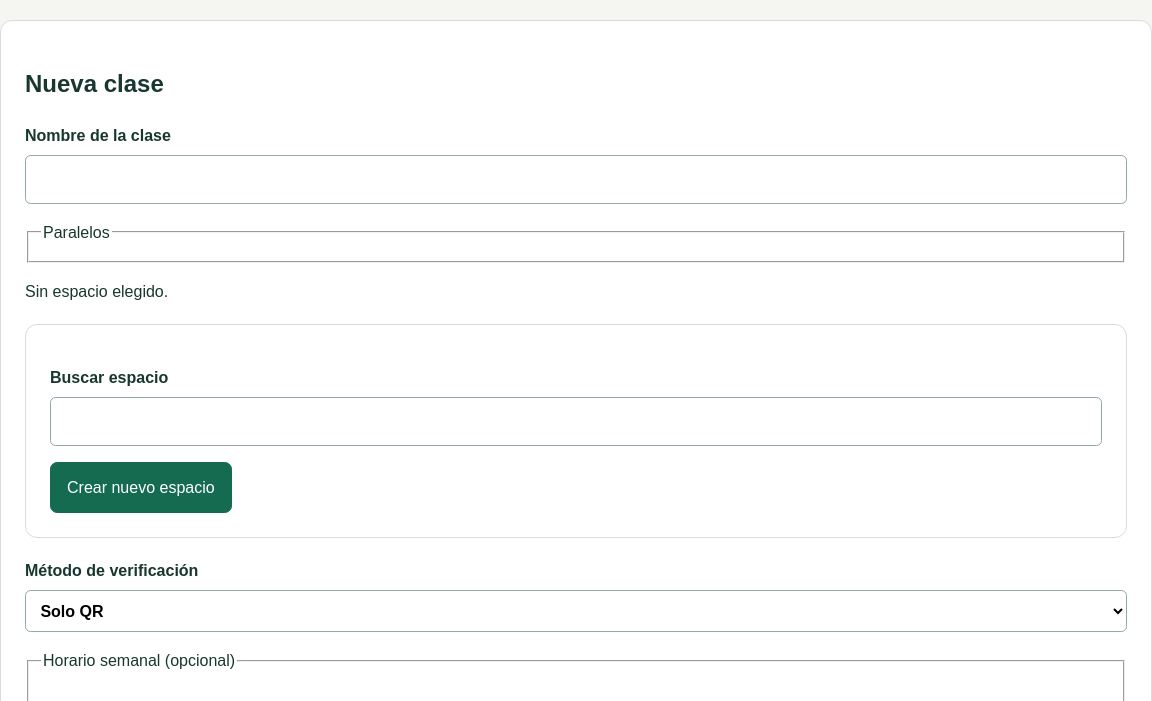
formulario de clase › exige espacio y paralelo antes de enviar
Type "Redes" into the field labelled "Nombre de la clase" at x=576, y=179, box x1=25 y1=155 x2=1127 y2=204
(page scrolled)
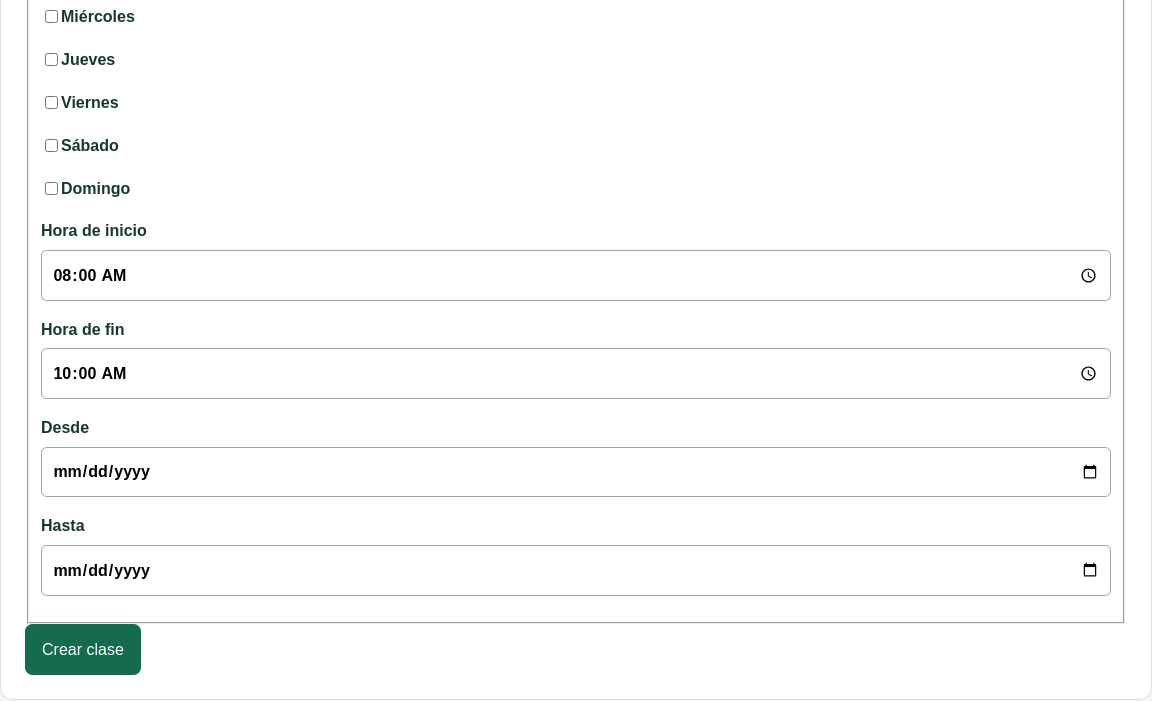
Click the button "Crear clase" at x=83, y=649, box x1=25 y1=624 x2=141 y2=675
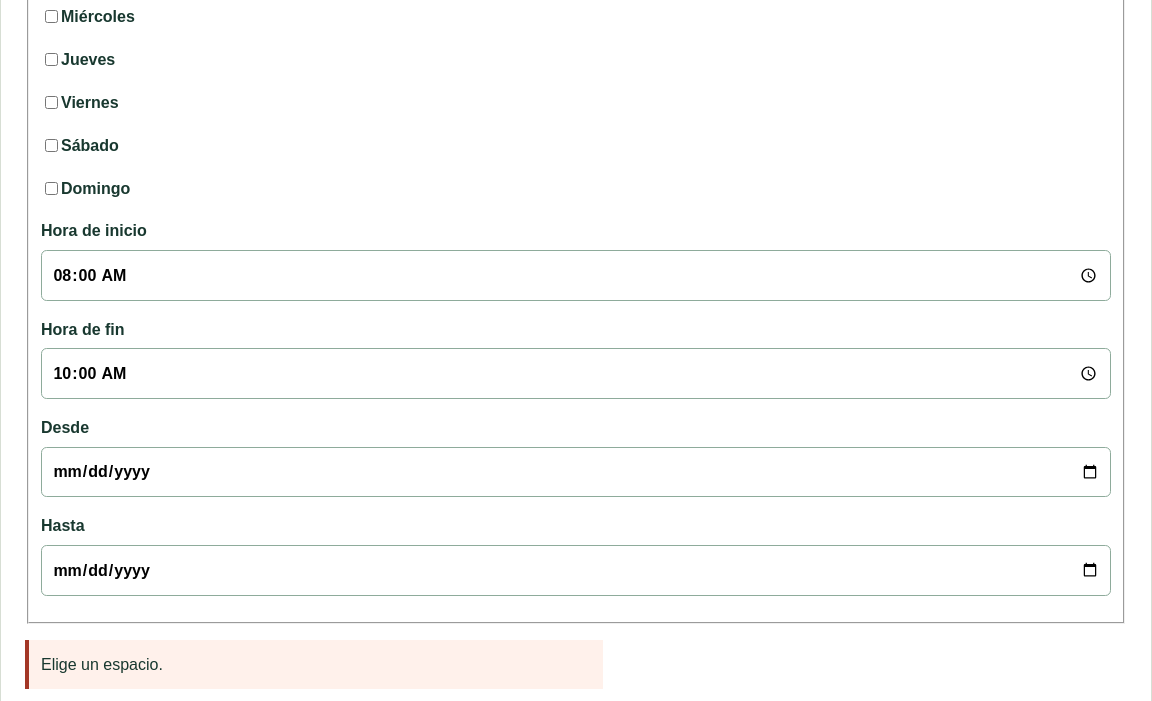
Result: the message shows "espacio" at x1=41 y1=656 x2=163 y2=673
